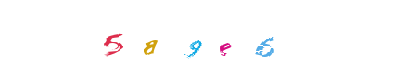5: (107, 0, 187, 80)
6: (196, 0, 276, 80)
A: (108, 0, 188, 80)
E: (157, 0, 237, 80)
G: (110, 0, 190, 80)
